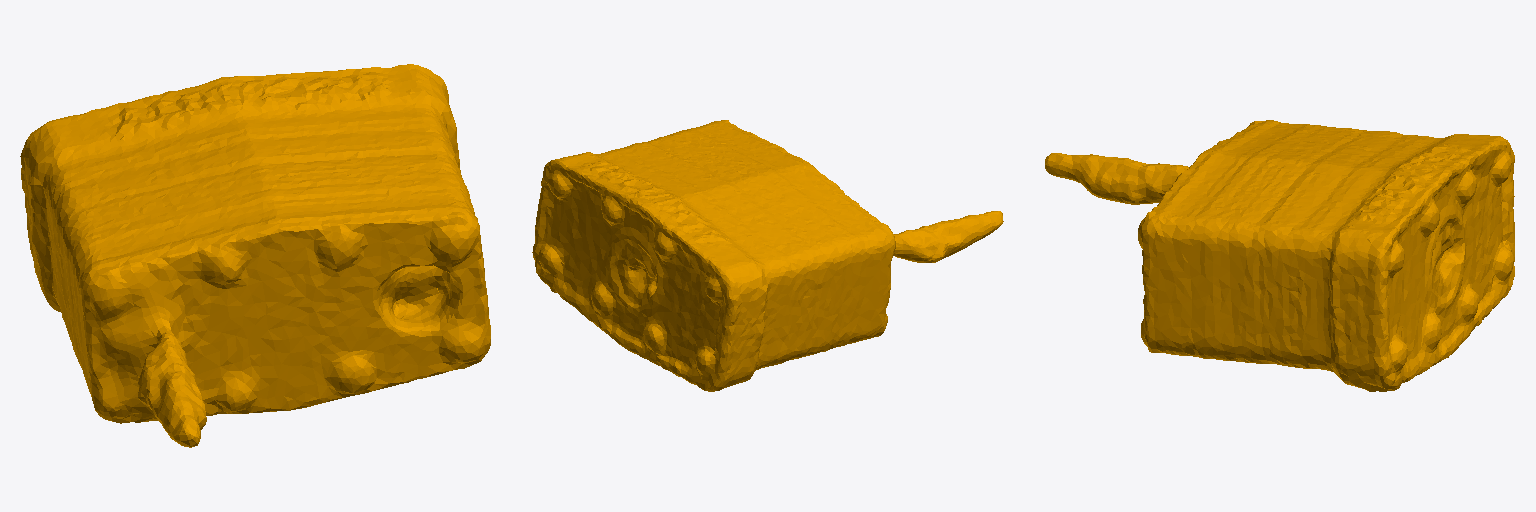
The robot description file, URDF, robot "038_padlock":
<?xml version="1.0" ?>
<robot name="038_padlock">
  <link name="base_link">
    <inertial>
      <mass value="0.006292381731508567"/>
      <origin rpy="0.83646 -1.47265  3.06674" xyz="-0.01906  0.00555  0.01335"/>
      <inertia ixx="2.719094046947672e-06" ixy="1.9524430098051522e-22" ixz="-4.0271059424928856e-23" iyy="1.8730369356004379e-06" iyz="-2.94816516170067e-22" izz="1.4438139639570604e-06"/>
    </inertial>
    <collision name="038_padlock__collision">
      <origin rpy="0 0 0" xyz="0 0 0"/>
      <geometry>
        <mesh filename="./038_padlock_250_collision.stl" scale="1.0 1.0 1.0"/>
      </geometry>
    </collision>
    <visual name="038_padlock__visual">
      <origin rpy="0 0 0" xyz="0 0 0"/>
      <geometry>
        <mesh filename="./textured.obj" scale="1.0 1.0 1.0"/>
      </geometry>
    </visual>
  </link>
</robot>

--- Render facts (derived) ---
3 views of the same robot in one strip: view 1: azimuth 30°, elevation 25°; view 2: azimuth 150°, elevation 25°; view 3: azimuth 270°, elevation 25° (orthographic).
Model 038_padlock with 1 links and 0 joints (none), rooted at base_link, posed all joints at 0.
Links seen in each view (by area): view 1: base_link; view 2: base_link; view 3: base_link.
Boxes of the visible links, x1=… form: base_link: x1=20, y1=64, x2=490, y2=447; base_link: x1=532, y1=120, x2=1003, y2=391; base_link: x1=1045, y1=120, x2=1514, y2=391.
Bounding box of the posed robot: 0.067 × 0.0681 × 0.0291 m (x, y, z).
1 mesh visuals loaded from 1 distinct referenced files (1 OBJ).